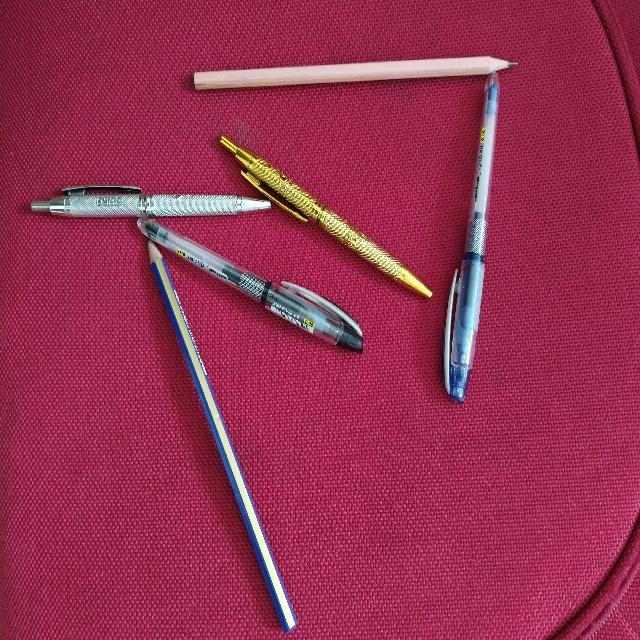pen: (137, 218, 362, 352), (444, 73, 498, 402)
pencil: (148, 242, 296, 631), (194, 56, 515, 89)
signature pen: (220, 136, 431, 297), (31, 185, 270, 216)
